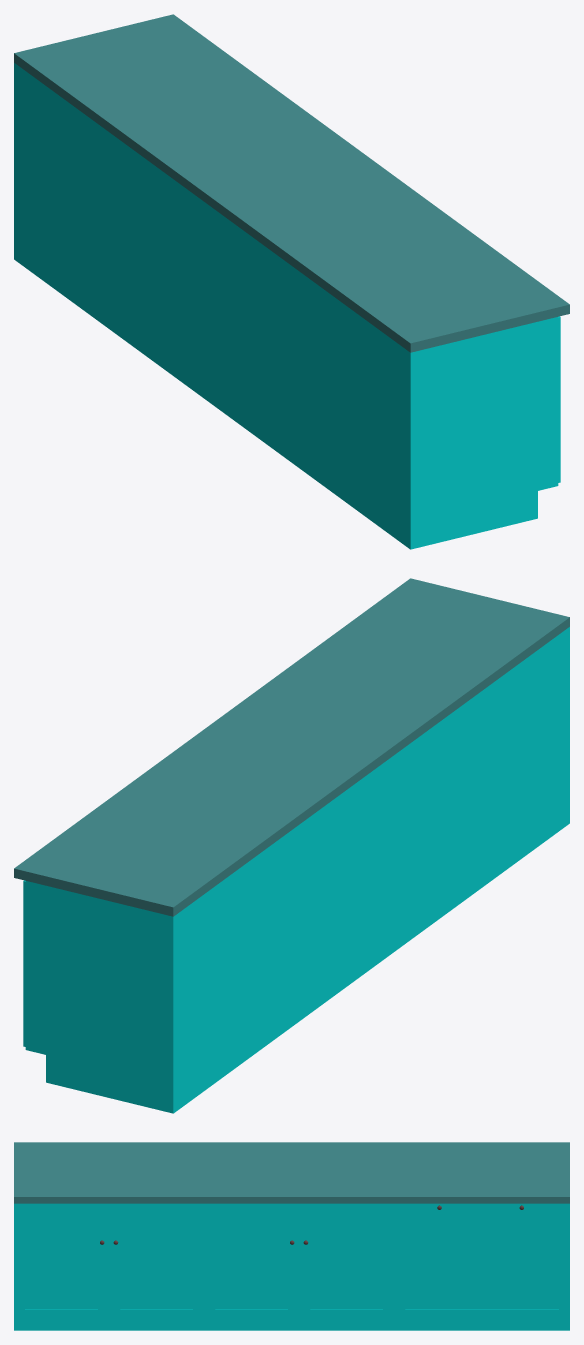
3 renders of one model, top to bottom at view 1: azimuth 30°, elevation 25°; view 2: azimuth 150°, elevation 25°; view 3: azimuth 270°, elevation 25°, orthographic. The views are drawn at different scales.
Parts seen in each view (by area): view 1: pCube180; view 2: pCube180; view 3: pCube180.
Boxes of the visible parts, x1,y1,x2,y2 form: pCube180: (14, 14, 569, 549); pCube180: (14, 578, 569, 1113); pCube180: (14, 1142, 569, 1330).
Bounding box in the file's own units: 78.68 × 97.23 × 339.
